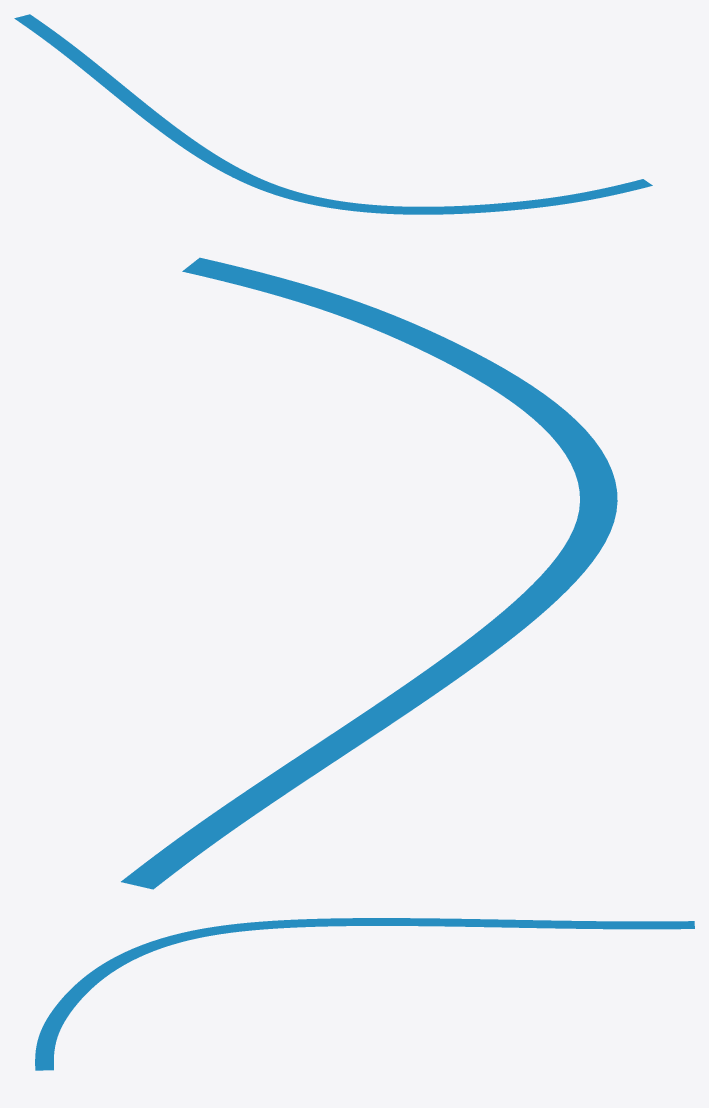
The model's file is guide.glb.
3 views of the same model, one above another, from view 1: azimuth 30°, elevation 25°; view 2: azimuth 150°, elevation 25°; view 3: azimuth 270°, elevation 25° (orthographic). The views are drawn at different scales.
Parts seen in each view (by area): view 1: static; view 2: static; view 3: static.
Boxes of the visible parts, bbox=[...] form: static: bbox=[14, 14, 652, 214]; static: bbox=[121, 257, 617, 889]; static: bbox=[35, 918, 694, 1070].
Size of the model in its own units: 7.1 by 0 by 11.62.
